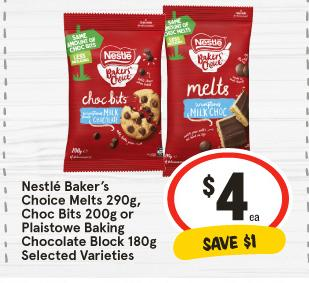description_block: (13, 172, 158, 270)
price_main: (160, 152, 294, 226)
product_image_block: (52, 3, 265, 170)
promo_text_block: (158, 224, 288, 259)
